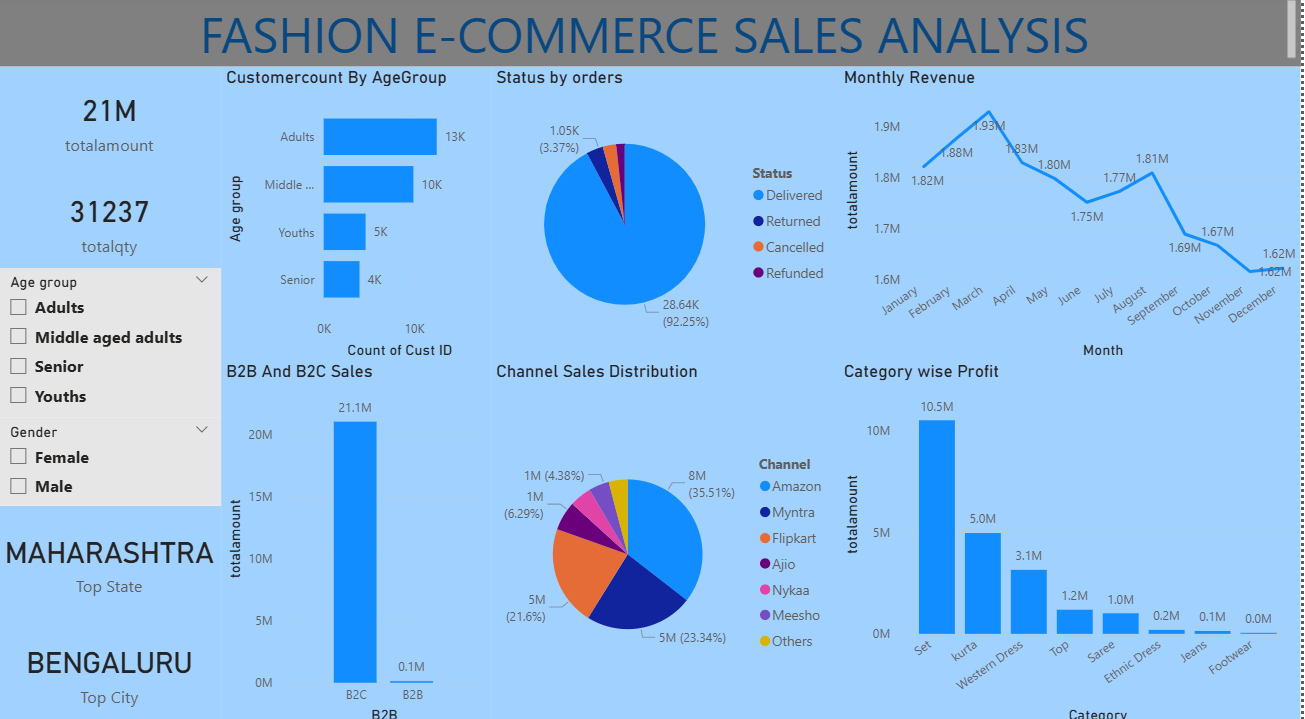

The page's visual inventory and layout, read from the dashboard file:
{"tool":"powerbi","page":{"name":"Page 1","canvas":[1280,720],"ordinal":0},"visuals":[{"type":"card","fields":{"Values":["Table_raw_data.totalamount"]},"box":[0,70,220,103.3],"z":0},{"type":"card","fields":{"Values":["Table_raw_data.totalqty"]},"box":[0,173.3,220,95],"z":1000},{"type":"lineChart","title":"Monthly Revenue","fields":{"Category":["Table_raw_data.Date.Variation.Date Hierarchy.Month"],"Y":["Table_raw_data.totalamount"]},"box":[826.7,70,453.3,290],"z":2000},{"type":"pieChart","title":"Channel Sales Distribution","fields":{"Category":["Table_raw_data.Channel "],"Y":["Table_raw_data.totalamount"]},"box":[485,360,341.7,360],"z":3000},{"type":"columnChart","title":"Category wise Profit","fields":{"Category":["Table_raw_data.Category"],"Y":["Table_raw_data.totalamount"]},"box":[826.7,360,453.3,360],"z":4000},{"type":"slicer","fields":{"Values":["Table_raw_data.Age group"]},"box":[0,268.3,220,146.7],"z":5000},{"type":"slicer","fields":{"Values":["Table_raw_data.Gender"]},"box":[0,415,220,86.7],"z":6000},{"type":"pieChart","title":"Status by orders","fields":{"Category":["Table_raw_data.Status"],"Y":["CountNonNull(Table_raw_data.Cust ID)"]},"box":[485,70,341.7,290],"z":7000},{"type":"actionButton","box":[0,0,100,40],"z":8000},{"type":"card","fields":{"Values":["Table_raw_data.Highest Revenue"]},"box":[0,610,220,110],"z":9000},{"type":"card","fields":{"Values":["Table_raw_data.Top State"]},"box":[0,501.7,220,108.3],"z":10000},{"type":"columnChart","title":"B2B And B2C Sales","fields":{"Y":["Table_raw_data.totalamount"],"Category":["Table_raw_data.B2B"]},"box":[220,360,265,360],"z":11000},{"type":"barChart","title":"Customercount By AgeGroup","fields":{"Category":["Table_raw_data.Age group"],"Y":["CountNonNull(Table_raw_data.Cust ID)"]},"box":[220,70,265,290],"z":12000},{"type":"textbox","box":[0,0,1280,70],"z":13000}]}

Visuals, with their boxes in screenshot pixels (x1, y1, x2, y2), scaled from the page's 1280x720 canvas onto the 1305x719 screenshot:
card - Table_raw_data.totalamount: (0,70,224,173)
card - Table_raw_data.totalqty: (0,173,224,268)
"Monthly Revenue" lineChart: (843,70,1304,360)
"Channel Sales Distribution" pieChart: (494,360,843,718)
"Category wise Profit" columnChart: (843,360,1304,718)
slicer - Table_raw_data.Age group: (0,268,224,414)
slicer - Table_raw_data.Gender: (0,414,224,501)
"Status by orders" pieChart: (494,70,843,360)
actionButton: (0,0,102,40)
card - Table_raw_data.Highest Revenue: (0,609,224,718)
card - Table_raw_data.Top State: (0,501,224,609)
"B2B And B2C Sales" columnChart: (224,360,494,718)
"Customercount By AgeGroup" barChart: (224,70,494,360)
textbox: (0,0,1304,70)
